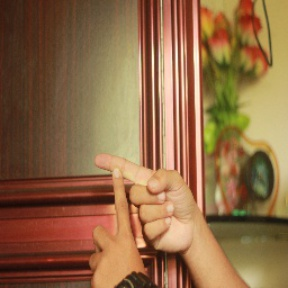T: (81, 144, 167, 267)
